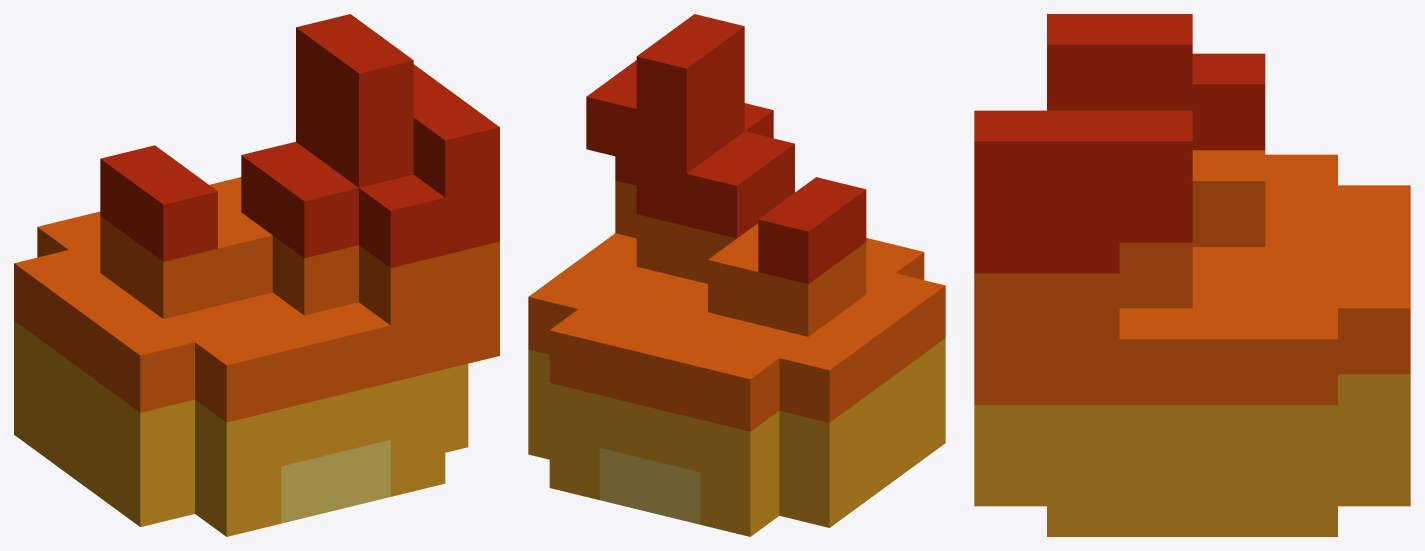
Rendered from flame_00.glb.
3 views of the same model, side by side, from view 1: azimuth 30°, elevation 25°; view 2: azimuth 150°, elevation 25°; view 3: azimuth 270°, elevation 25° (orthographic). The views are drawn at different scales.
Parts seen in each view (by area): view 1: flame_00; view 2: flame_00; view 3: flame_00.
Part boxes in pixels (box(x1,y1,x2,y2)): flame_00: box(14, 14, 499, 536); flame_00: box(528, 14, 945, 536); flame_00: box(974, 14, 1410, 536).
Size of the model in its own units: 0.75 by 0.875 by 0.75.
